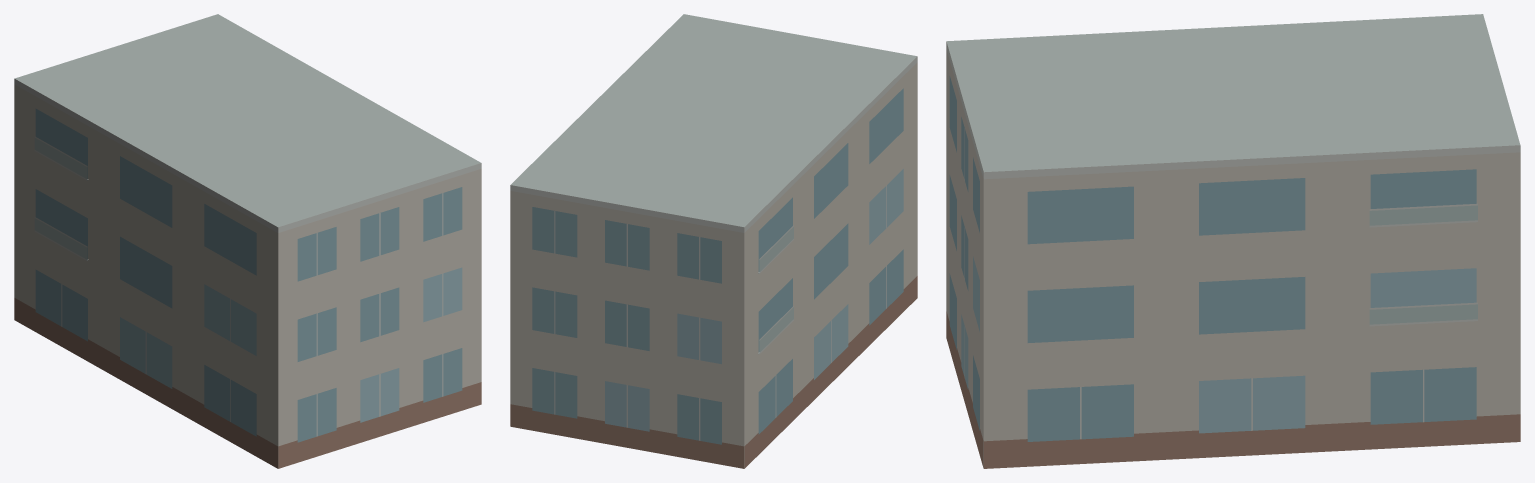
The model's file is survey-upis-32885720.glb.
The picture shows the model from 3 angles, left to right: view 1: azimuth 30°, elevation 25°; view 2: azimuth 150°, elevation 25°; view 3: azimuth 270°, elevation 25°; orthographic projection. The views are drawn at different scales.
Visible parts, largest first — view 1: survey-upis-32885720.tmp; view 2: survey-upis-32885720.tmp; view 3: survey-upis-32885720.tmp.
Part boxes in pixels (x1=…): survey-upis-32885720.tmp: x1=14, y1=14, x2=481, y2=468; survey-upis-32885720.tmp: x1=510, y1=14, x2=917, y2=468; survey-upis-32885720.tmp: x1=946, y1=14, x2=1520, y2=468.
Size of the model in its own units: 11.67 by 10.2 by 17.9.
